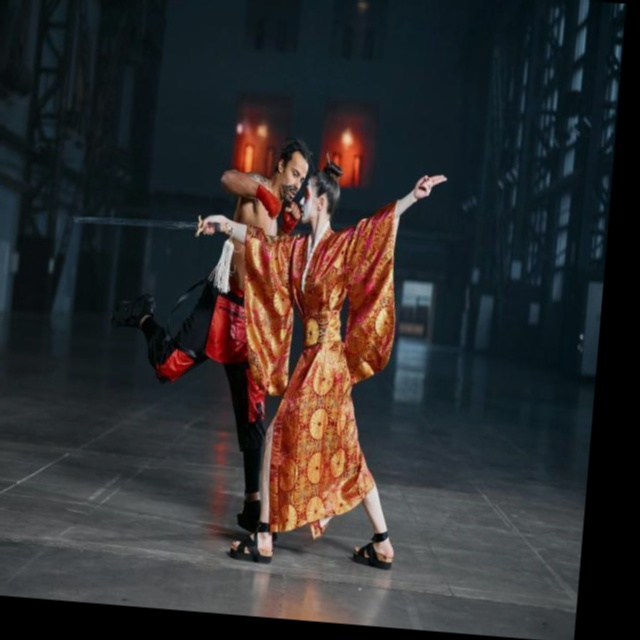Sharp-Object: (70, 206, 233, 244)
